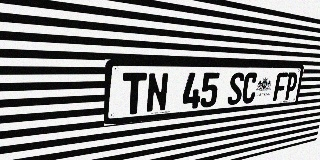4: (182, 72, 203, 110)
5: (200, 72, 220, 108)
C: (241, 72, 258, 104)
F: (273, 72, 288, 101)
N: (146, 73, 169, 113)
P: (284, 72, 298, 100)
S: (227, 72, 245, 105)
T: (122, 73, 147, 115)
